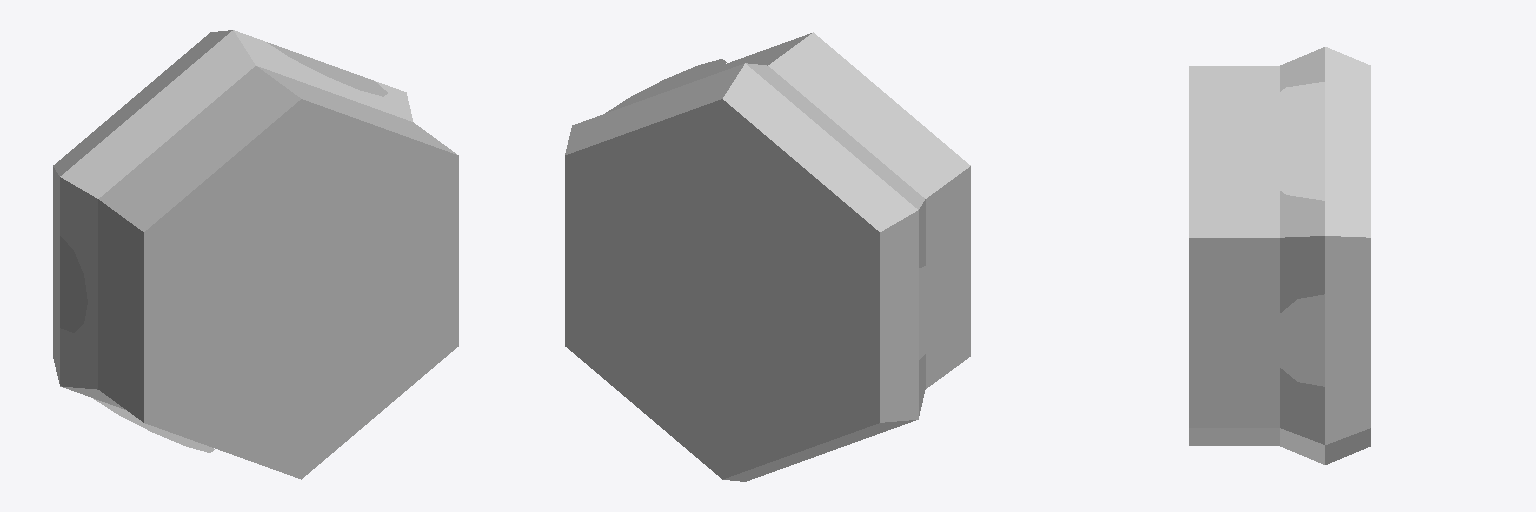
Rendered from block-snow-overhang-low-hexagon.obj.
3 views of the same model, side by side, from view 1: azimuth 30°, elevation 25°; view 2: azimuth 150°, elevation 25°; view 3: azimuth 270°, elevation 25° (orthographic).
Parts seen in each view (by area): view 1: block-snow-overhang-low-hexagon; view 2: block-snow-overhang-low-hexagon; view 3: block-snow-overhang-low-hexagon.
Part boxes in pixels (bbox=[...]): block-snow-overhang-low-hexagon: bbox=[53, 30, 458, 479]; block-snow-overhang-low-hexagon: bbox=[565, 32, 970, 481]; block-snow-overhang-low-hexagon: bbox=[1189, 47, 1370, 464].
Bounding box in the file's own units: 1.1 × 1.27 × 0.5.